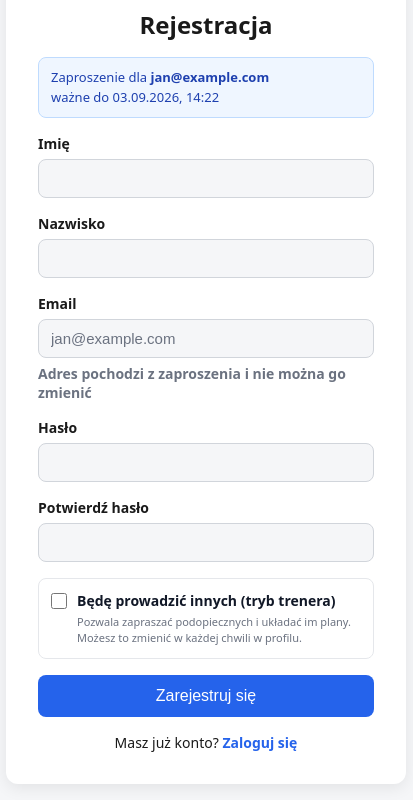
Test: RegisterPage › walidacja › pusty formularz pokazuje błędy i nie wysyła żądania
(page scrolled)
Expected: the field labelled "Imię" is shown, [38, 159, 374, 198]
Click the button "Zarejestruj się".
click(206, 696)  # box [38, 675, 374, 717]
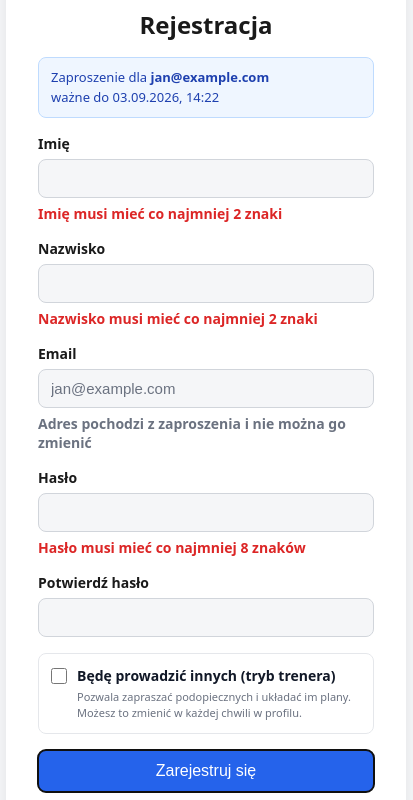
Expected: the text "Imię musi mieć co najmniej 2 znaki" is shown, [38, 204, 282, 223]
Expected: the text "Nazwisko musi mieć co najmniej 2 znaki" is shown, [38, 309, 318, 328]
Expected: the text "Hasło musi mieć co najmniej 8 znaków" is shown, [38, 538, 306, 557]
